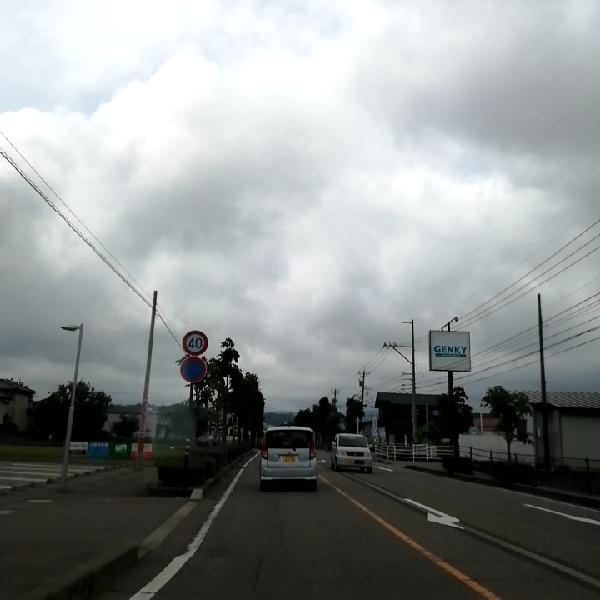D00: (245, 549, 268, 597)
